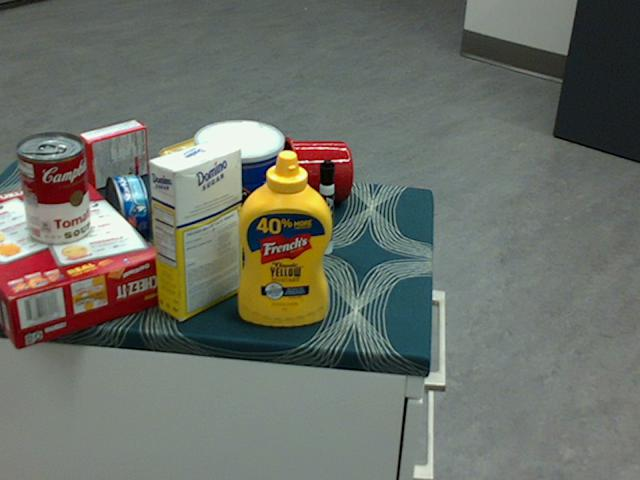cracker_box: (0, 174, 164, 348)
gelatin_box: (78, 119, 147, 190)
large_marker: (318, 159, 335, 253)
master_chef_can: (192, 118, 282, 263)
mug: (275, 135, 351, 207)
mustard_bottle: (238, 149, 332, 325)
potted_meat_can: (157, 130, 236, 221)
sugar_box: (147, 138, 243, 319)
tomato_soup_can: (16, 132, 90, 245)
tuna_fish_can: (103, 173, 149, 247)
